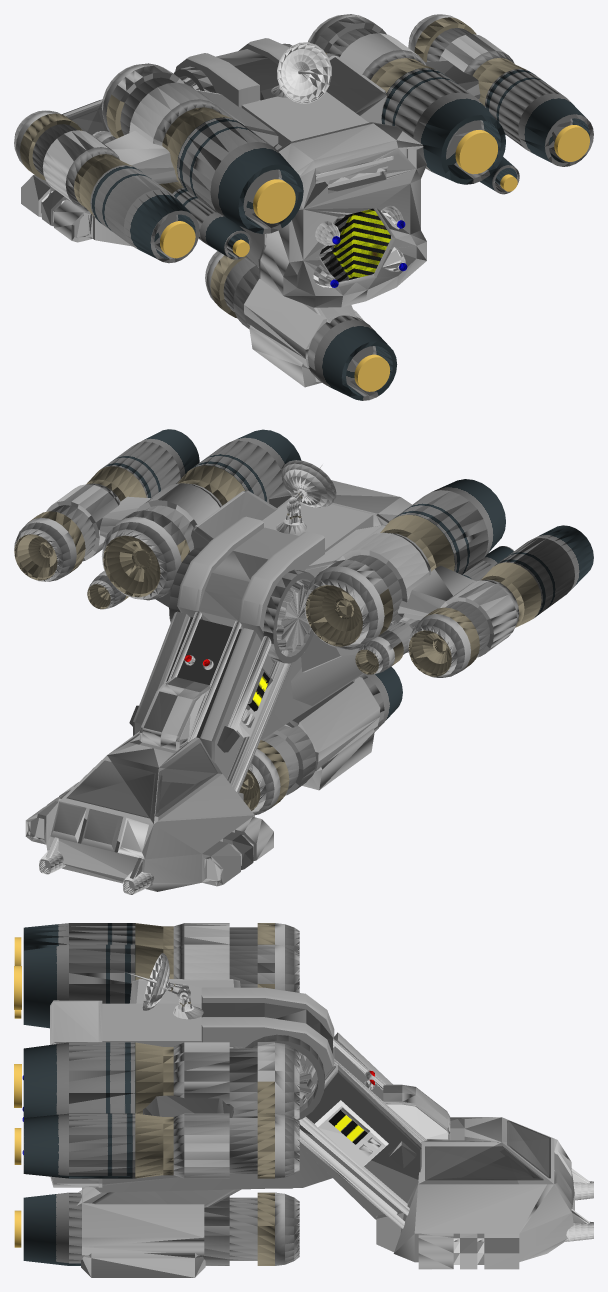
File: orion.glb
3 renders of one model, top to bottom at view 1: azimuth 30°, elevation 25°; view 2: azimuth 150°, elevation 25°; view 3: azimuth 270°, elevation 25°, orthographic.
Parts seen in each view (by area): view 1: orion_land; view 2: orion_land; view 3: orion_land.
Boxes of the visible parts, x1,y1,x2,y2 form: orion_land: (14,14,593,400); orion_land: (14,429,593,894); orion_land: (14,923,593,1277).
Size of the model in its own units: 16073 by 10563 by 18066.
Materials: 19 (6 with a texture image).
